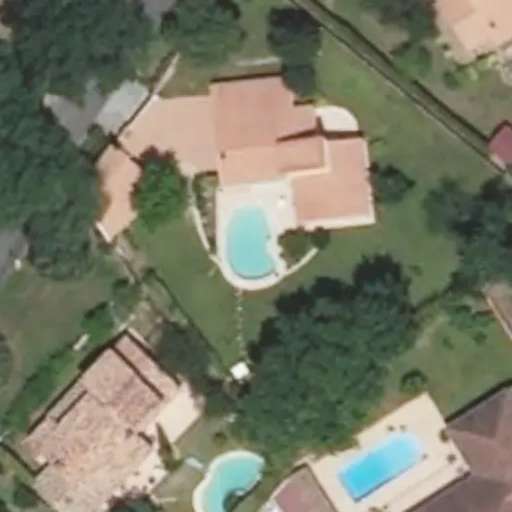pool: (229, 205, 280, 278)
